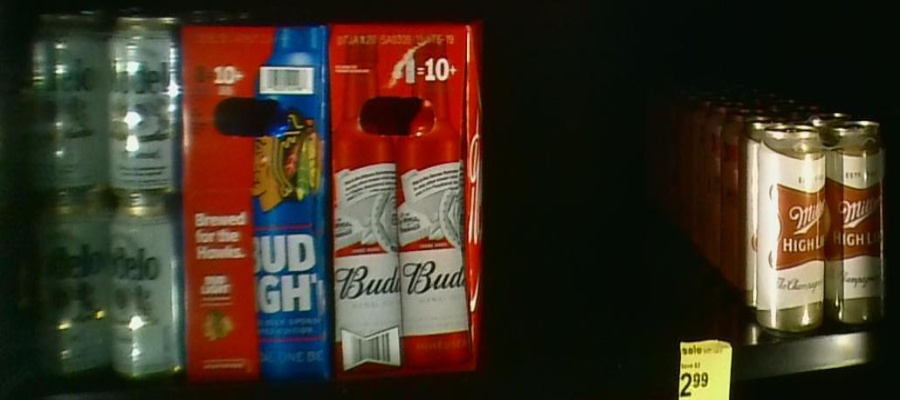bottle: (27, 11, 184, 379), (330, 20, 482, 372), (187, 21, 326, 381), (759, 126, 887, 332)
